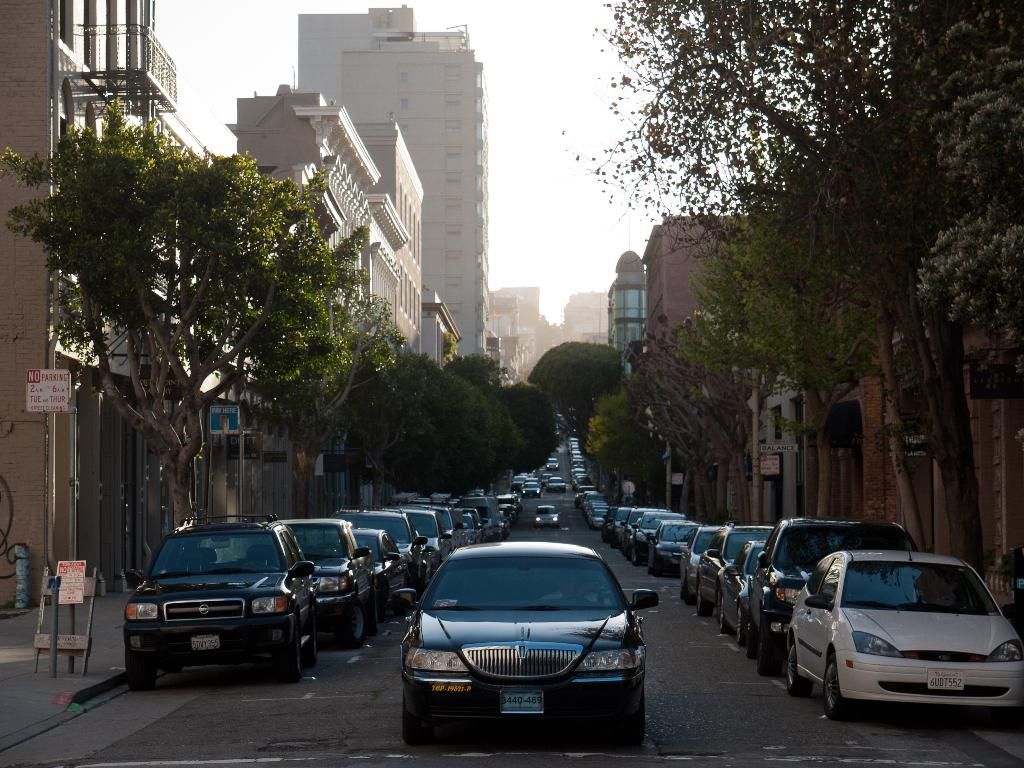Car: (568, 441, 1023, 716), (121, 498, 521, 679), (394, 540, 661, 740), (512, 458, 565, 495), (535, 504, 560, 526)
